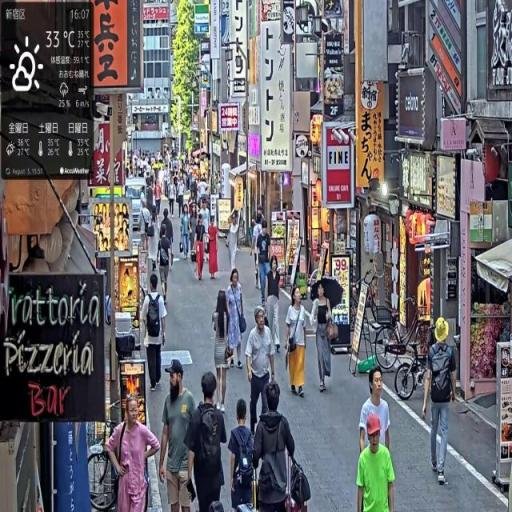person: (105, 389, 164, 512), (253, 380, 307, 512), (186, 372, 230, 512), (159, 358, 199, 512), (424, 319, 460, 488), (246, 307, 278, 440), (357, 414, 398, 512), (227, 395, 258, 512), (140, 273, 168, 394), (285, 285, 311, 401), (360, 367, 393, 458), (312, 282, 336, 396), (212, 294, 233, 413), (226, 269, 248, 372), (265, 255, 282, 358), (256, 221, 272, 308), (157, 224, 174, 304), (194, 215, 207, 285), (208, 216, 221, 283), (154, 179, 163, 226), (168, 177, 177, 218)
